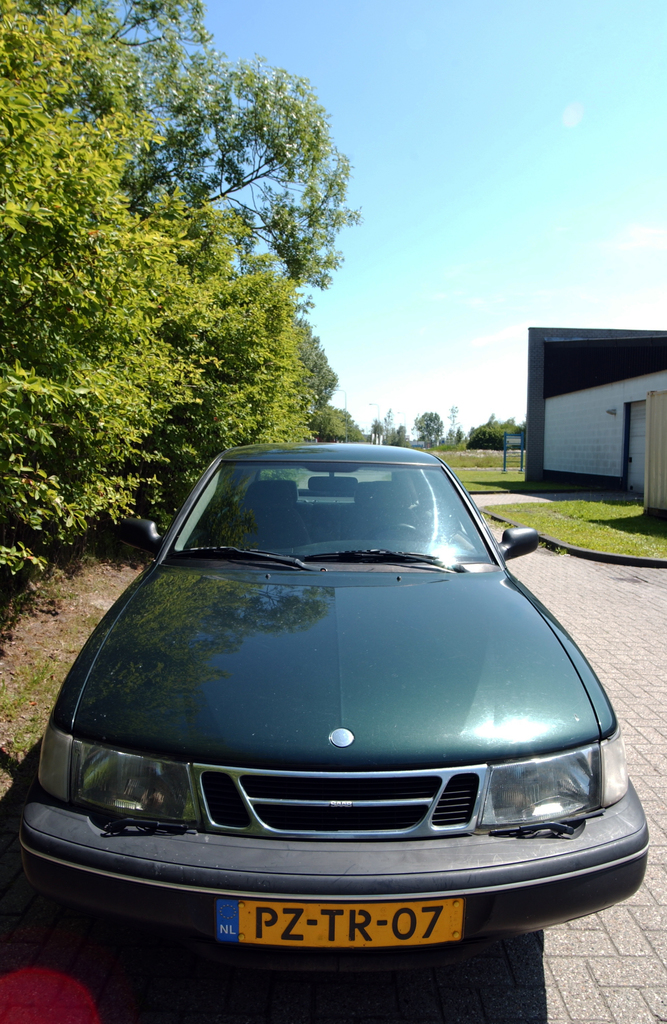Tree: (0, 0, 338, 599), (318, 397, 524, 448)
